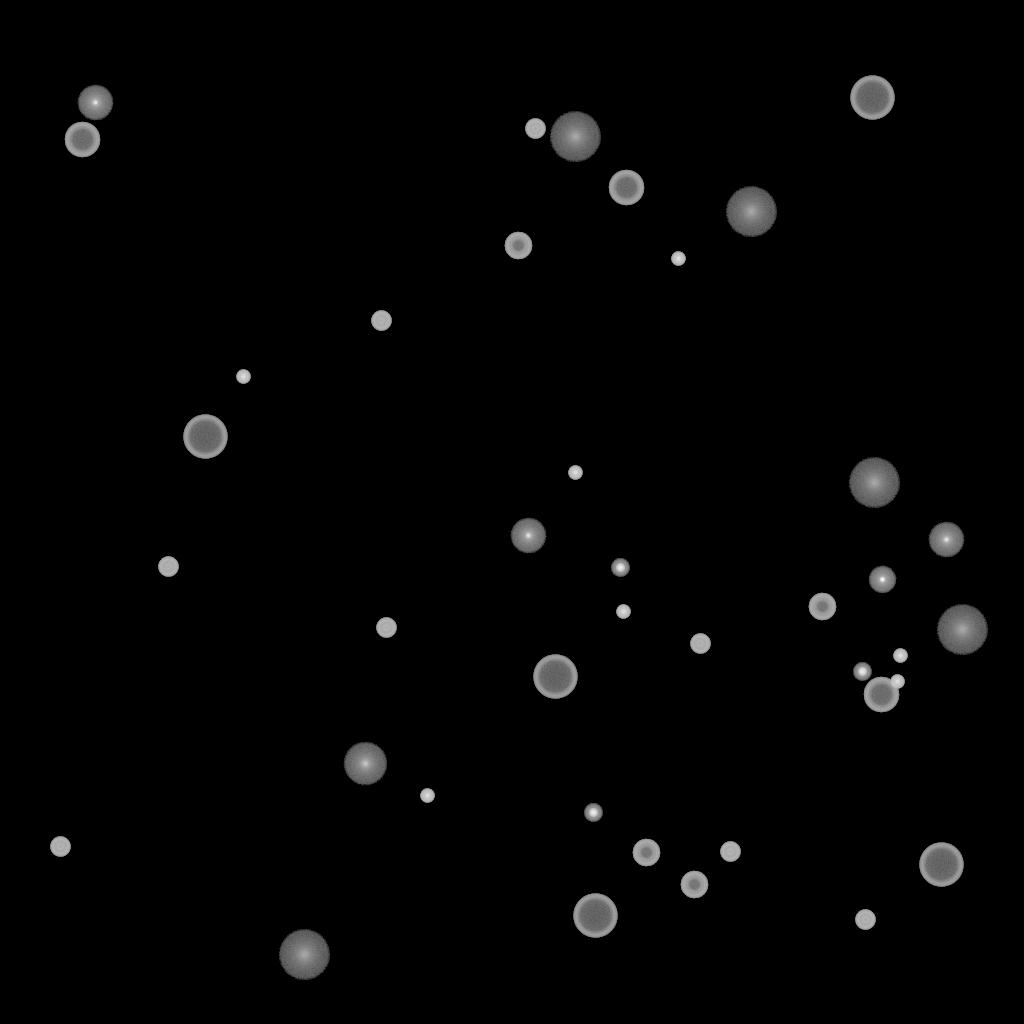depth:-10: (868, 566, 896, 594)
depth:-20: (611, 559, 629, 577), (584, 804, 602, 822), (853, 663, 871, 681)
depth:-30: (890, 675, 904, 689), (236, 370, 250, 384), (568, 466, 582, 480), (893, 649, 907, 663), (420, 789, 434, 803), (616, 605, 630, 619), (671, 252, 685, 266)
depth:-40: (376, 618, 396, 638), (525, 119, 545, 139), (371, 311, 391, 331), (855, 910, 875, 930), (690, 634, 710, 654), (720, 842, 740, 862), (50, 837, 70, 857), (158, 557, 178, 577)
depth:-50: (632, 839, 660, 867), (680, 871, 708, 899), (504, 232, 532, 260), (808, 593, 836, 621)
depth:-60: (64, 122, 100, 158), (608, 170, 644, 206), (863, 677, 899, 713)
depth:-70: (183, 415, 227, 459), (573, 894, 617, 938), (850, 76, 894, 120), (919, 843, 963, 887), (533, 655, 577, 699)
depth:0: (928, 522, 964, 558), (510, 518, 546, 554), (77, 85, 113, 121)
depth:10: (343, 742, 387, 786)
depth:20: (936, 605, 988, 655), (848, 458, 900, 508), (725, 187, 777, 237), (278, 930, 330, 980), (549, 112, 601, 162)
